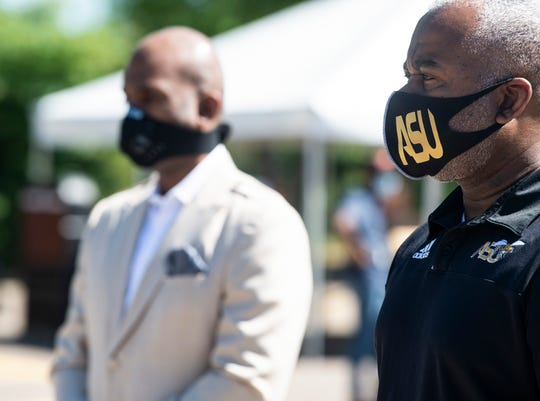with_mask: (387, 13, 540, 193), (118, 43, 230, 181)
